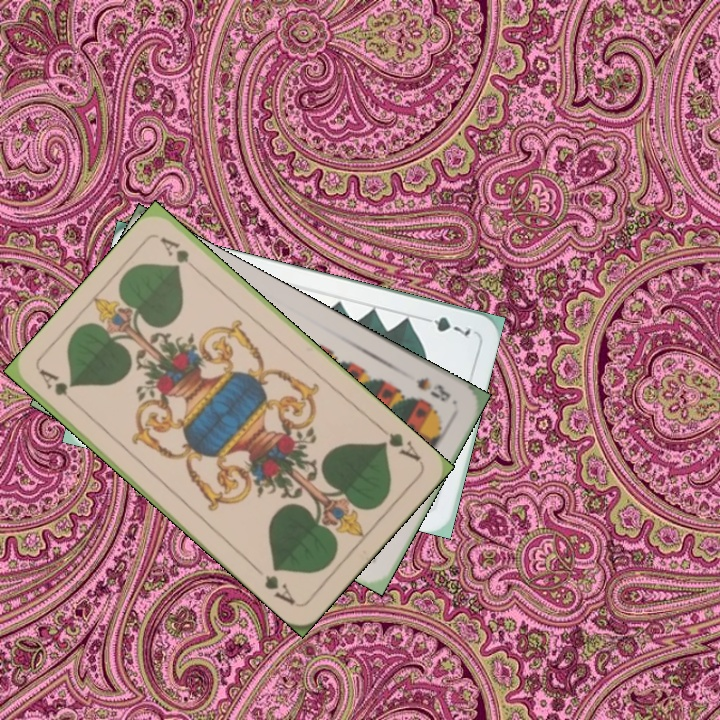G7: (417, 312, 474, 339)
GA: (35, 365, 84, 412), (375, 422, 424, 464)
S8: (412, 373, 454, 405)
